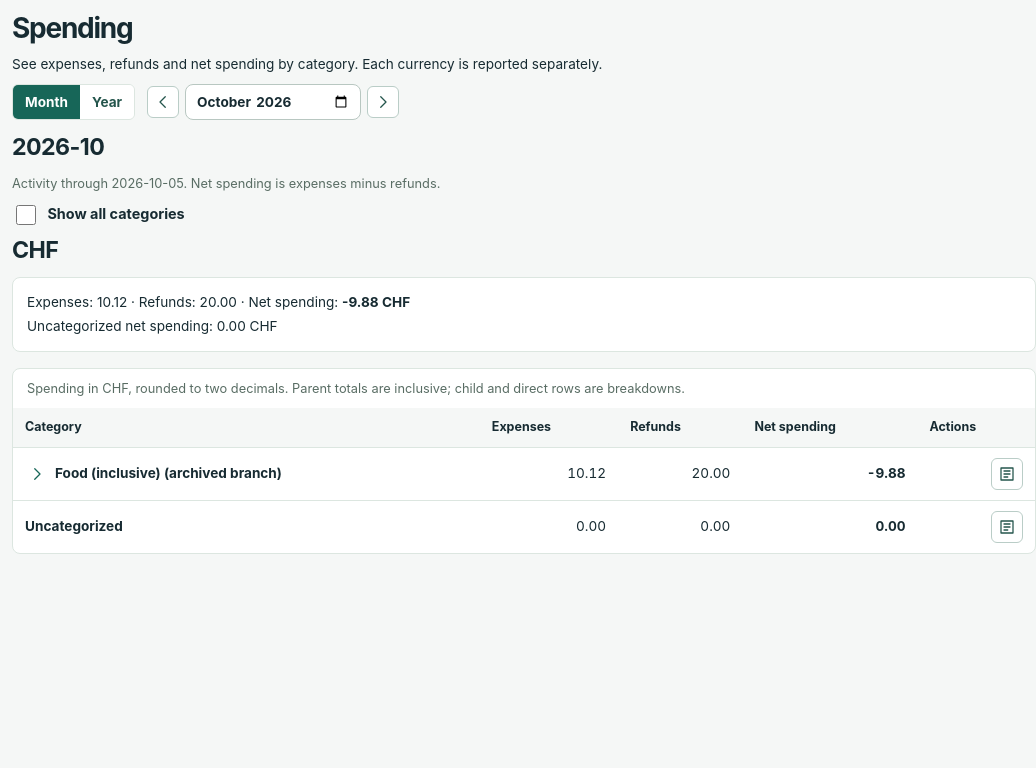
Test case: switches months and years and shows a clear empty period
Expected: the text "Food (inclusive) (archived branch)" is shown, top-left (55, 463), bottom-right (282, 484)
Step 1. Click the button "Year" → point(107, 102), box top-left (80, 85), bottom-right (134, 119)
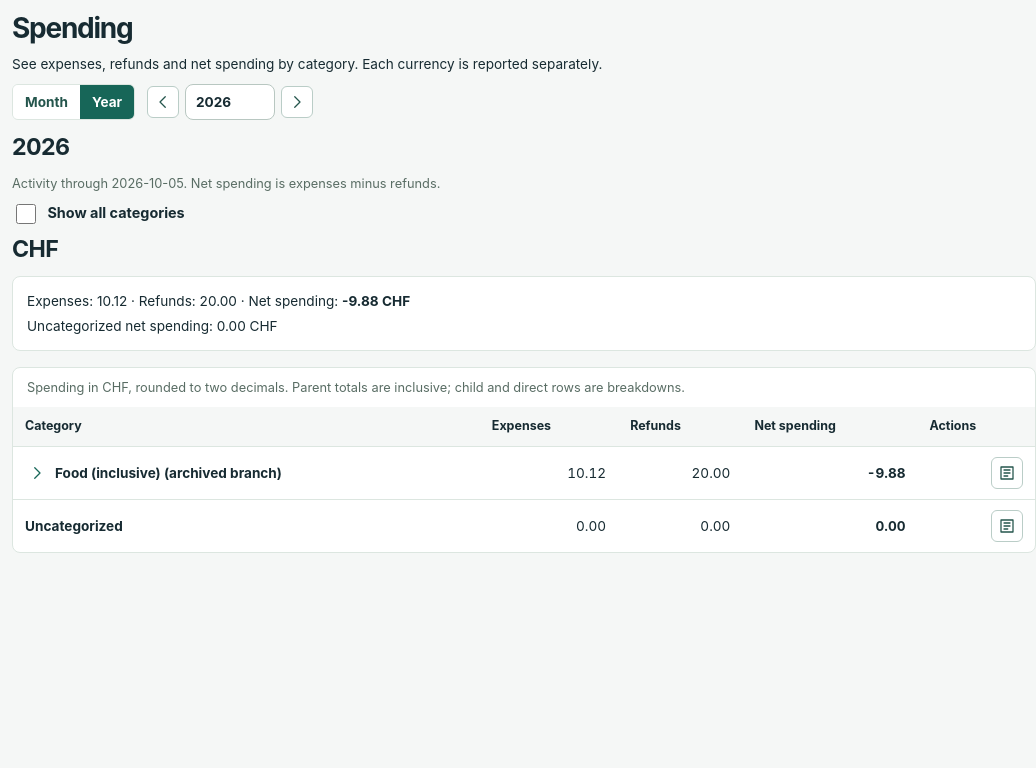
Expected: the heading "2026" is shown, top-left (12, 133), bottom-right (70, 161)
Step 2. Click the button named "Previous period" → point(163, 102), box top-left (147, 86), bottom-right (179, 118)
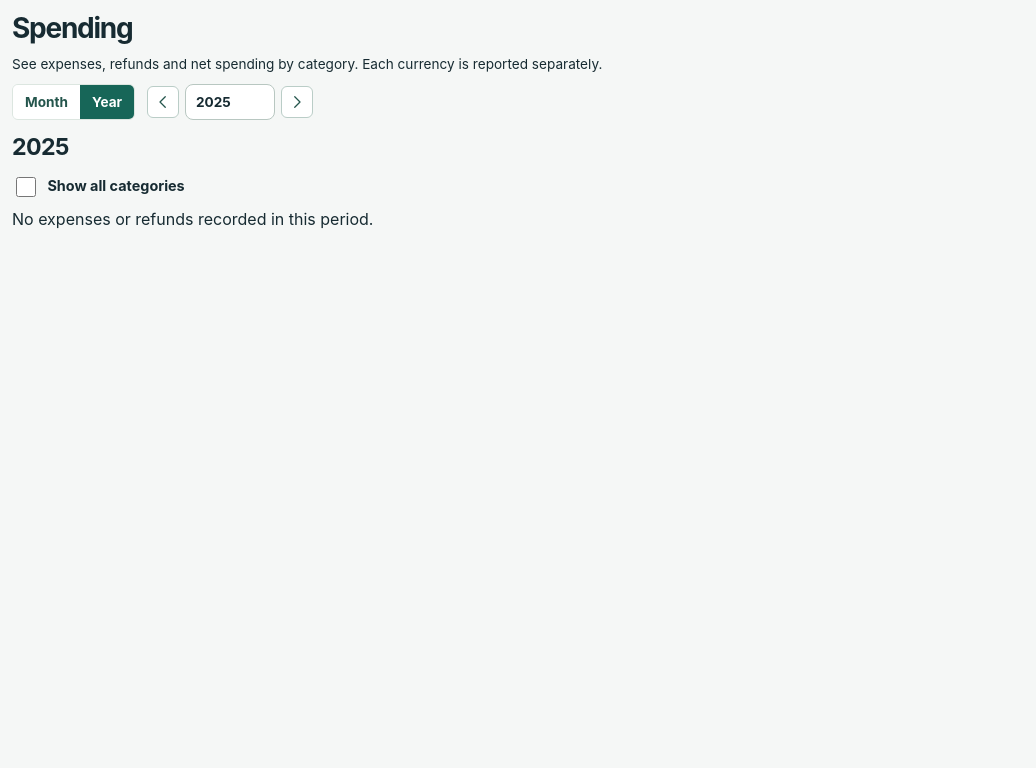
Now the text "No expenses or refunds recorded in this period." is shown, box top-left (12, 209), bottom-right (374, 229)
Now the table is gone
